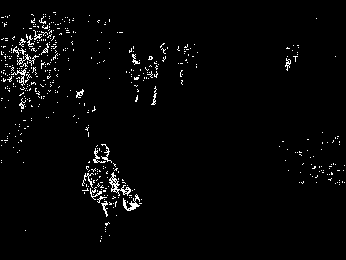person: (80, 142, 143, 227)
